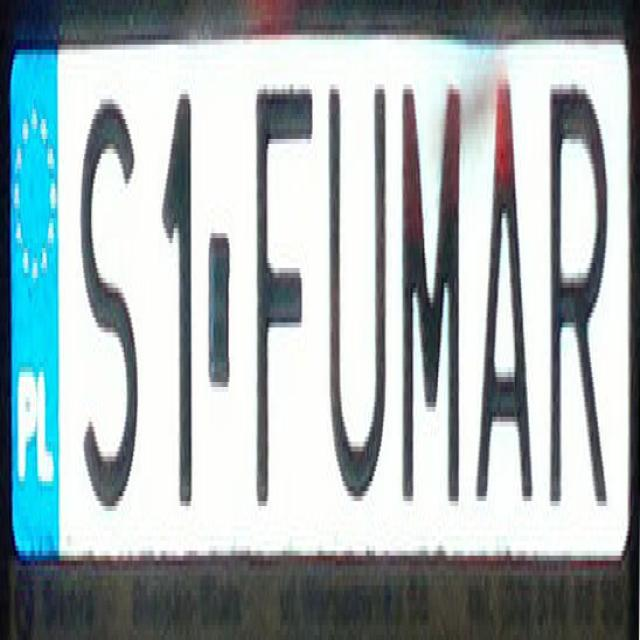pl_license_plate: (9, 39, 628, 546)
